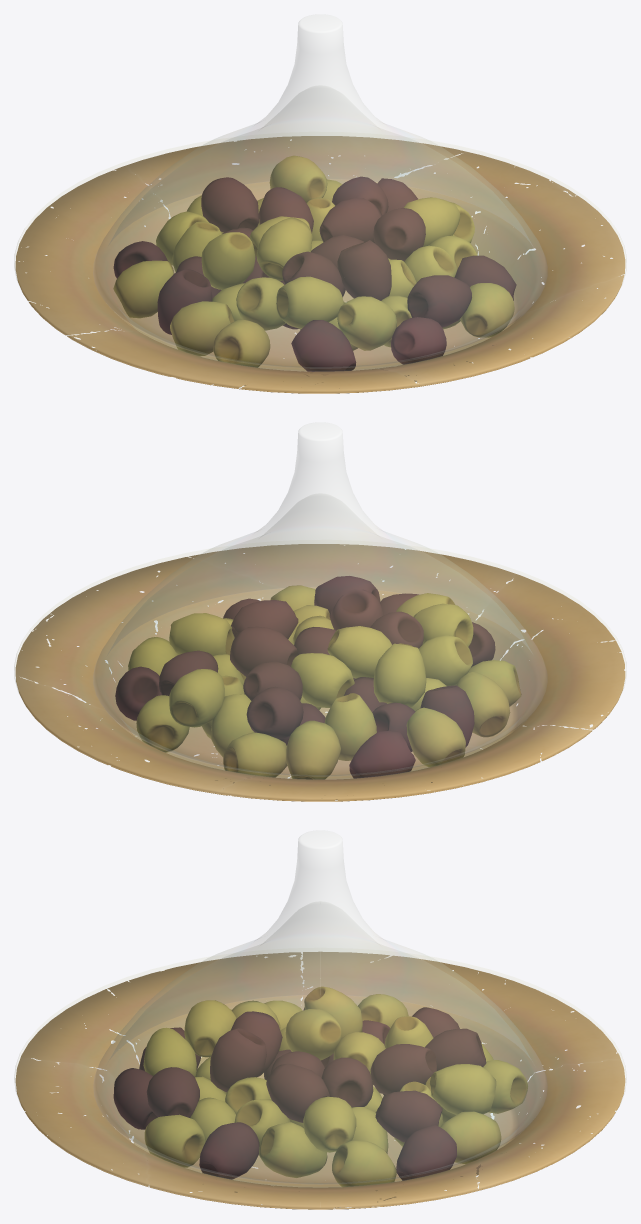
The model's file is PearlGoldOliveCoveredGlassDish.gltf.
3 renders of one model, top to bottom at view 1: azimuth 30°, elevation 25°; view 2: azimuth 150°, elevation 25°; view 3: azimuth 270°, elevation 25°, orthographic.
Parts seen in each view (by area): view 1: glassCover, glassDish_goldLeaf, olives, glassDish; view 2: glassCover, glassDish_goldLeaf, olives, glassDish; view 3: glassCover, glassDish_goldLeaf, olives, glassDish.
Boxes of the visible parts, <box> form: glassCover: <box>93,14,547,368</box>; glassDish_goldLeaf: <box>15,136,625,393</box>; olives: <box>113,155,516,371</box>; glassDish: <box>14,137,626,392</box>; glassCover: <box>93,422,547,776</box>; glassDish_goldLeaf: <box>15,544,625,801</box>; olives: <box>115,576,521,779</box>; glassDish: <box>14,545,626,800</box>; glassCover: <box>93,830,547,1184</box>; glassDish_goldLeaf: <box>15,952,625,1209</box>; olives: <box>113,986,527,1187</box>; glassDish: <box>14,953,626,1208</box>.
Bounding box in the file's own units: 0.4594 × 0.2381 × 0.4594.
4 materials, 4 textured.
